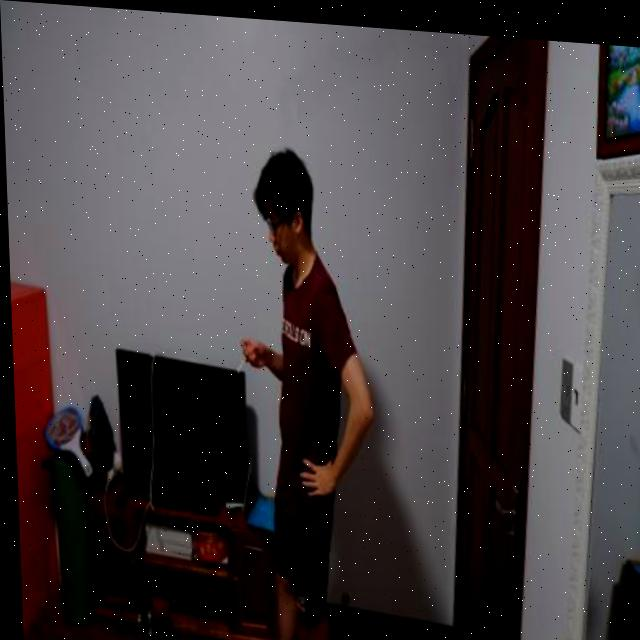cigarette: (233, 350, 245, 372)
